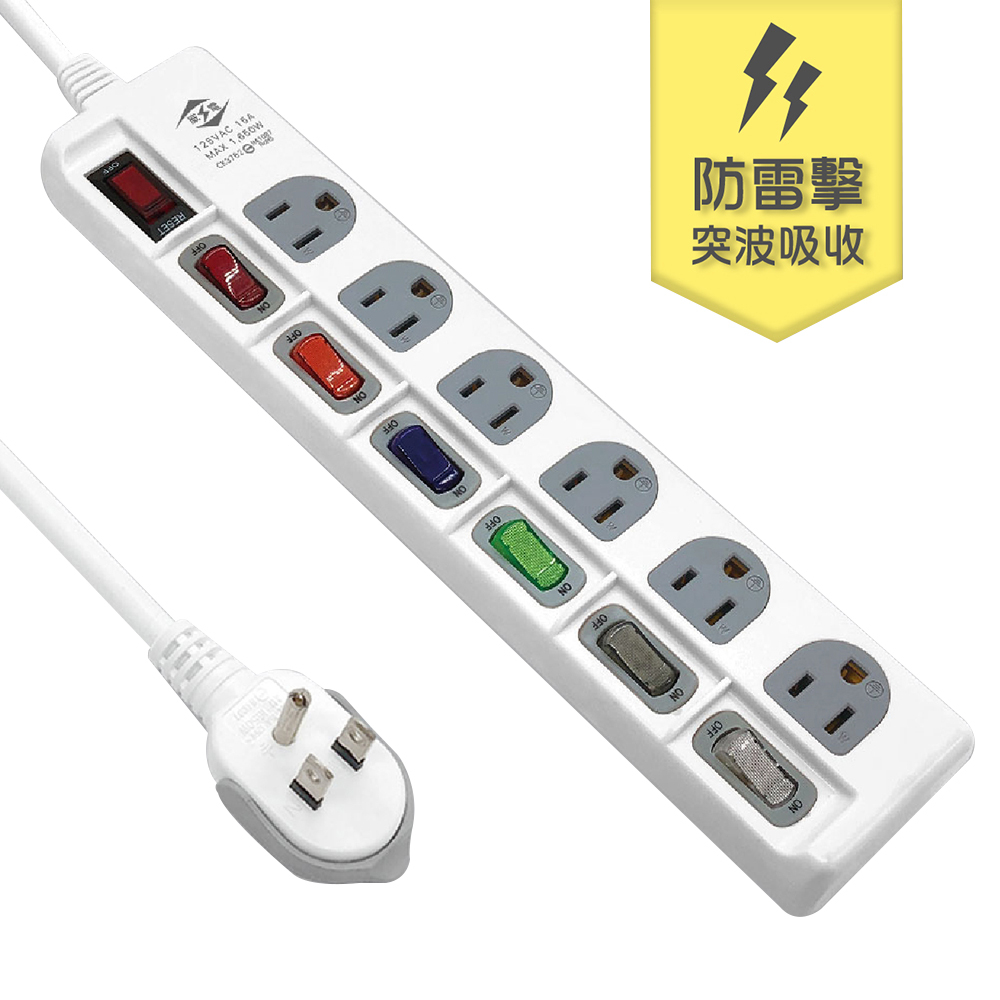socket: (39, 45, 978, 915)
